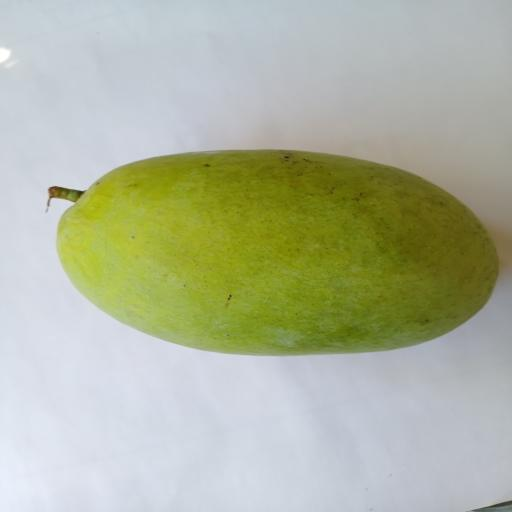mango-unripe: (28, 148, 502, 359)
